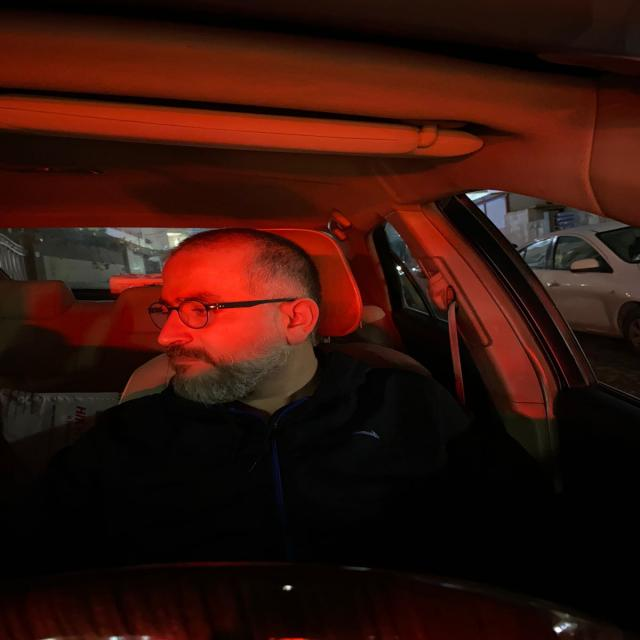person: (144, 238, 322, 410)
